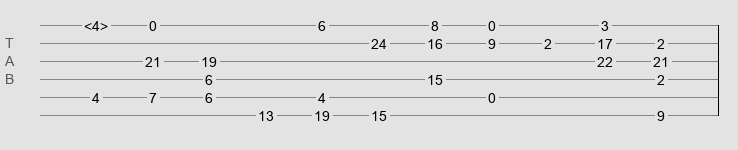0: (149, 18, 157, 28), (488, 18, 496, 28), (488, 90, 496, 100)
13: (258, 108, 274, 118)
15: (371, 108, 387, 118), (427, 72, 443, 82)
16: (427, 36, 443, 46)
17: (597, 36, 613, 46)
19: (201, 54, 217, 64), (314, 108, 330, 118)
2: (544, 36, 552, 46), (657, 36, 665, 46), (657, 72, 665, 82)
21: (145, 54, 161, 64), (653, 54, 669, 64)
22: (597, 54, 613, 64)
24: (371, 36, 387, 46)
3: (601, 18, 609, 28)
4: (92, 90, 100, 100), (318, 90, 326, 100)
6: (205, 72, 213, 82), (205, 90, 213, 100), (318, 18, 326, 28)
7: (149, 90, 157, 100)
8: (431, 18, 439, 28)
9: (488, 36, 496, 46), (657, 108, 665, 118)
harmonic: (84, 18, 108, 28)
